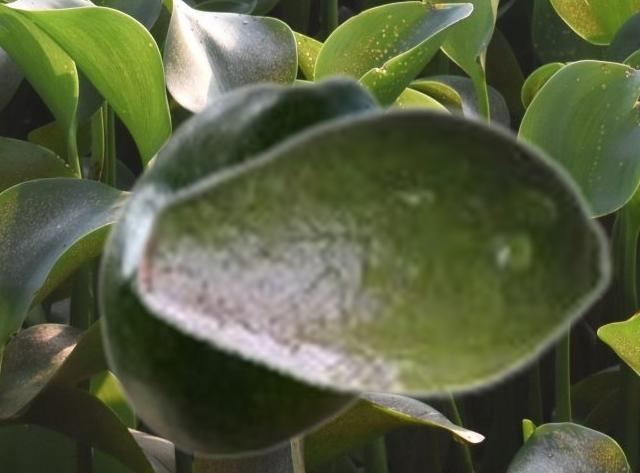avocado: (131, 99, 615, 404), (94, 70, 386, 460)
